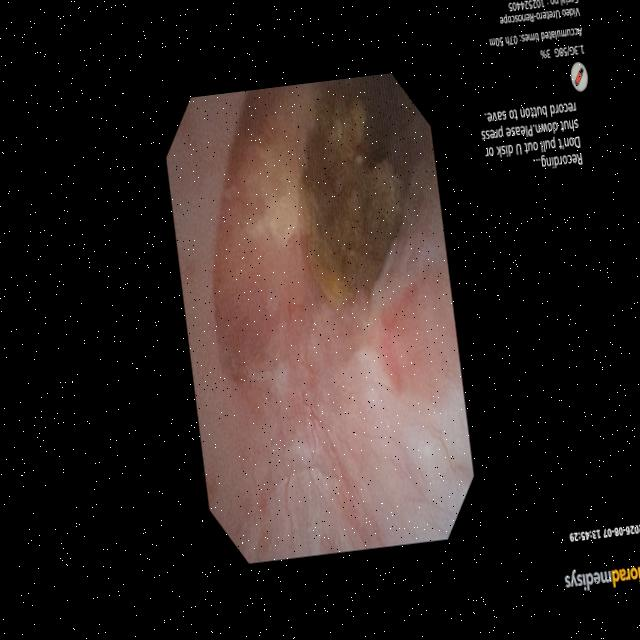stone-new: (300, 87, 402, 306)
